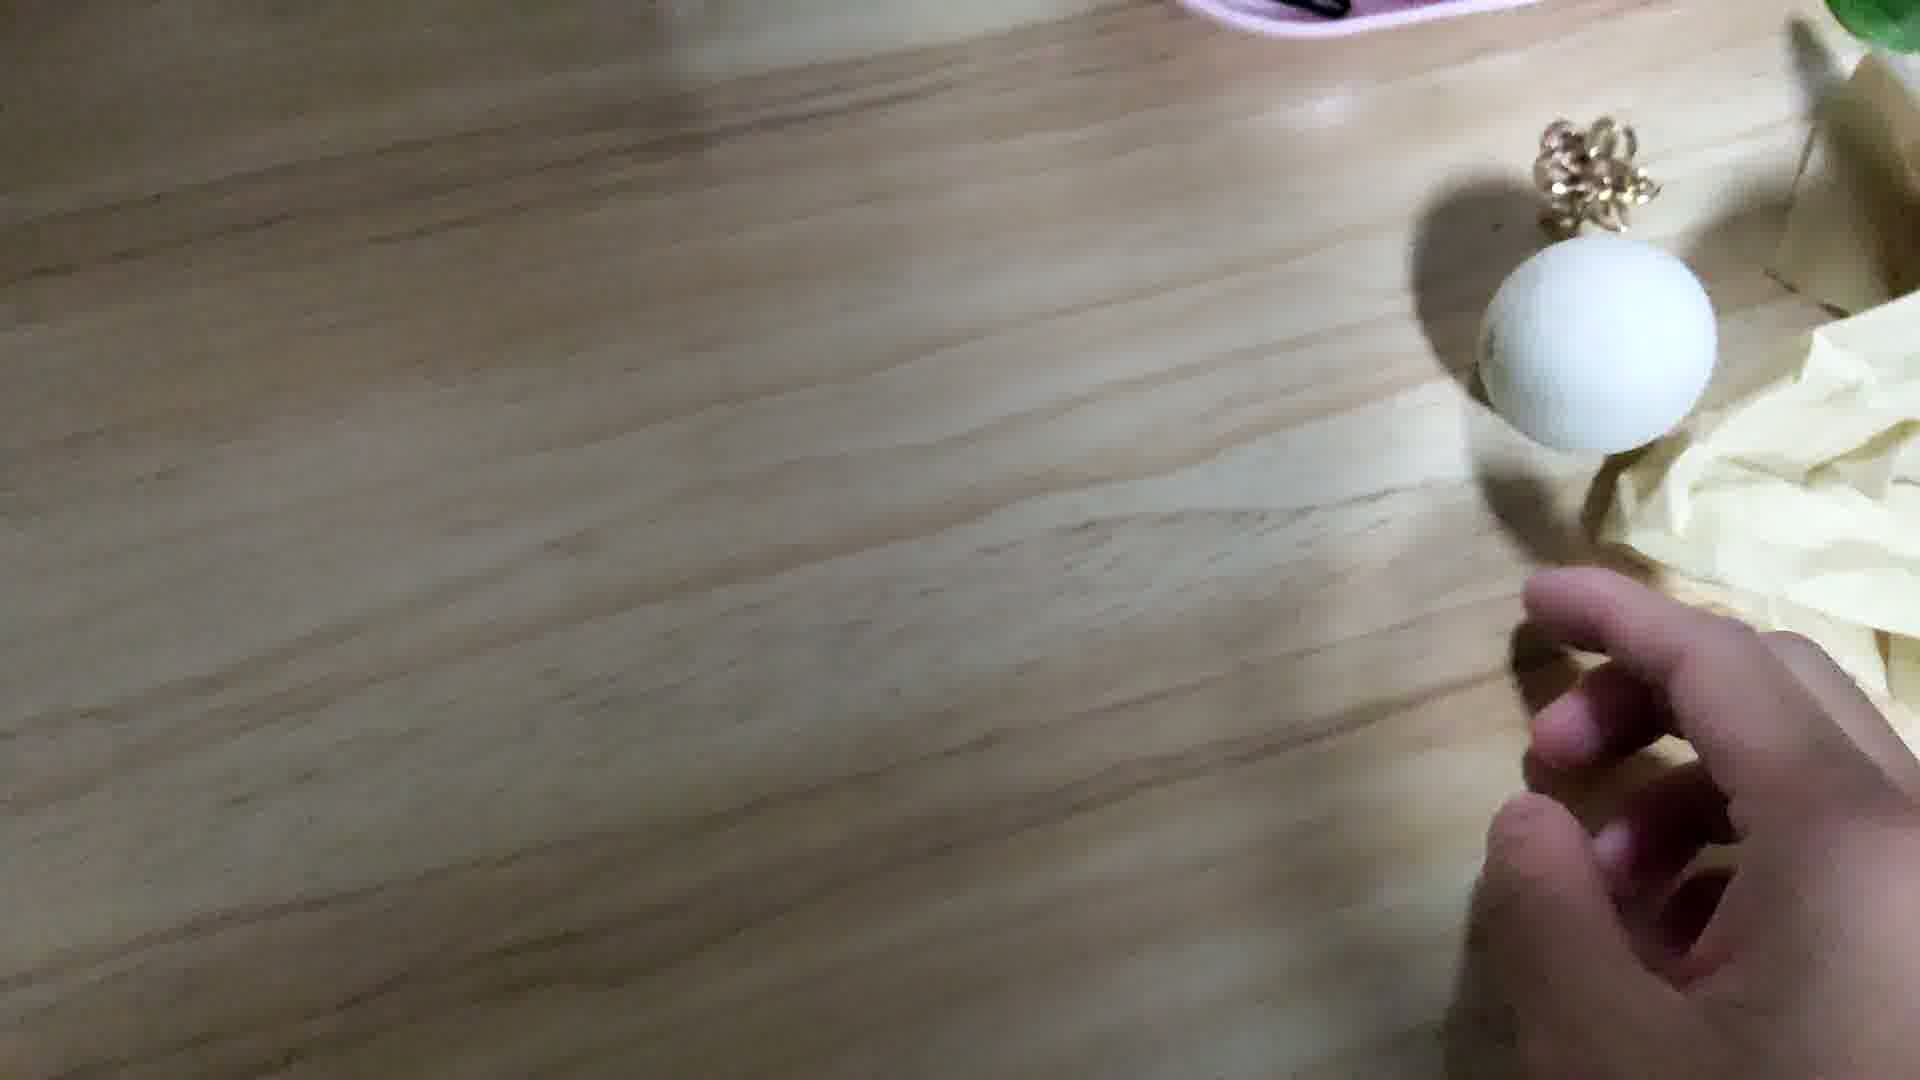Ball: (1476, 227, 1714, 458)
